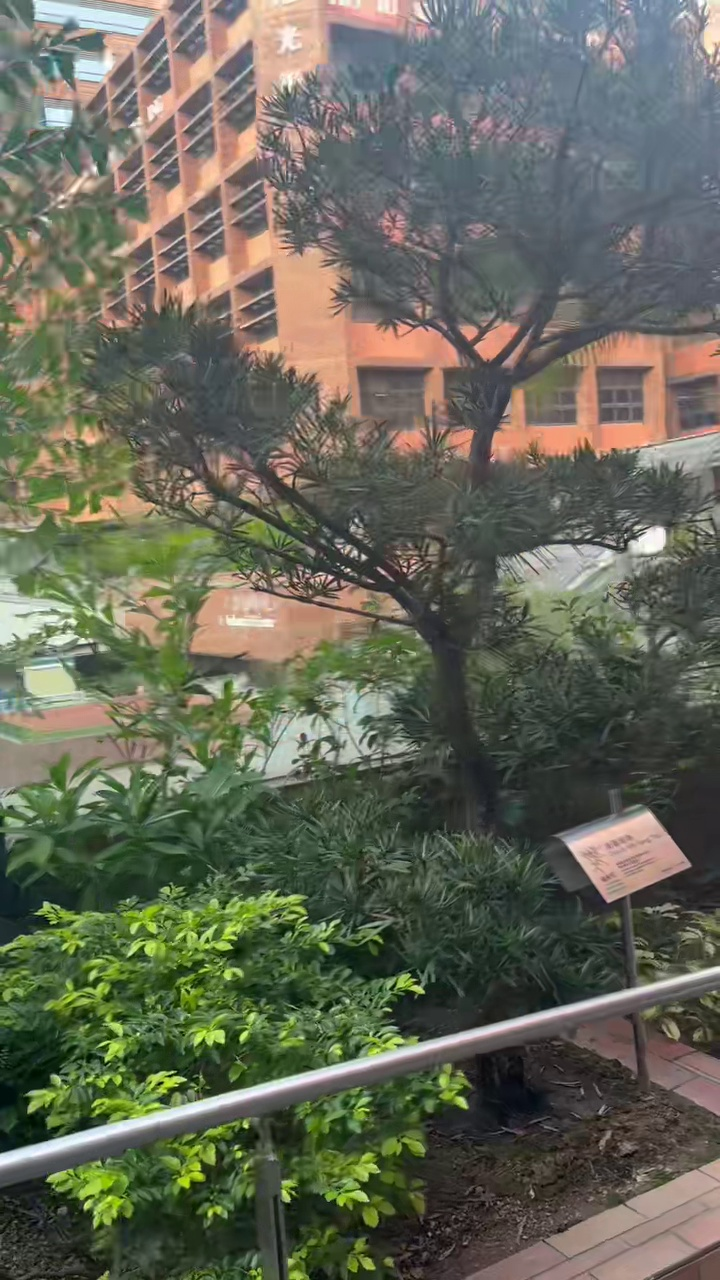Podocarpus macrophyllus: (88, 0, 719, 822)
